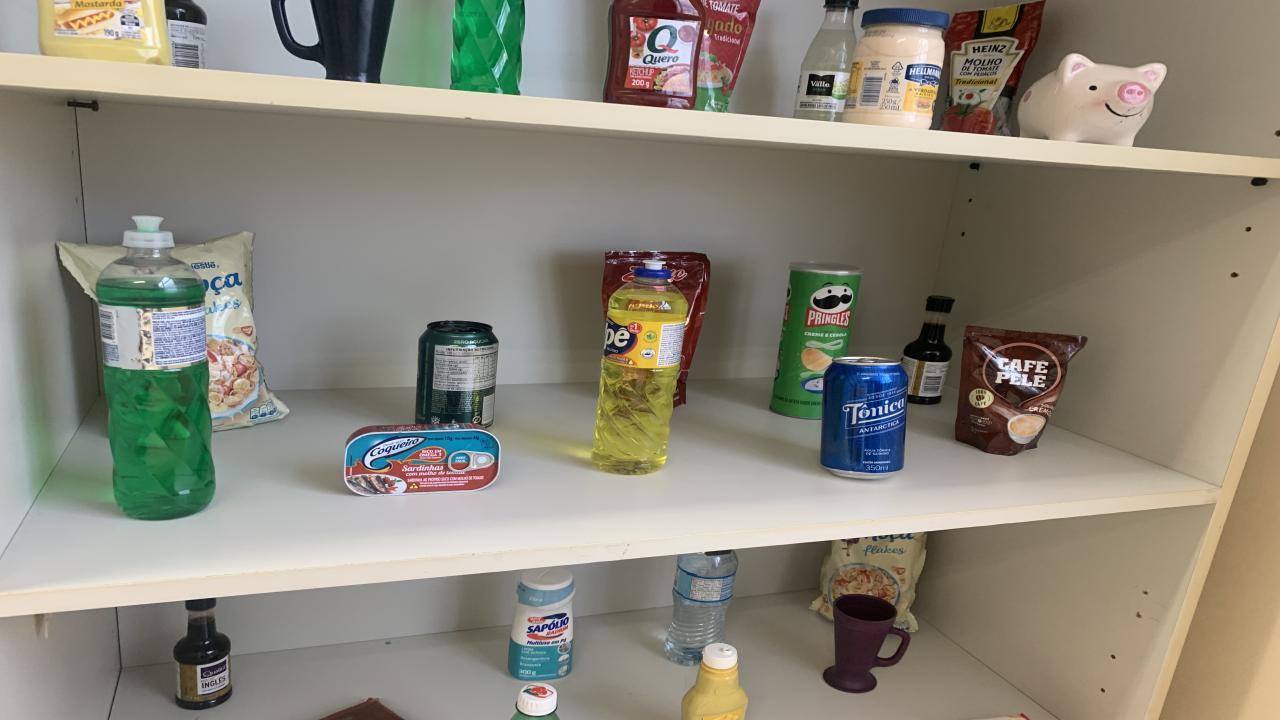Cleaner-Cleanup_Items: (508, 566, 575, 681)
Coffee-Pantry_Items: (955, 326, 1088, 456)
Detergent-Cleanup_Items: (95, 216, 215, 519), (592, 262, 688, 474), (450, 0, 525, 94), (220, 261, 225, 262)
English_Sauce-Pantry_Items: (172, 598, 232, 709), (900, 294, 955, 405), (902, 296, 955, 364), (912, 392, 940, 403)
Flakes-Snacks: (172, 232, 288, 429), (810, 532, 928, 632), (58, 242, 122, 296)
Guarana_Can-Drinks: (415, 321, 498, 428)
Ketchup-Pantry_Items: (602, 0, 705, 109), (602, 0, 705, 109)
Mayonnaise-Pantry_Items: (842, 8, 950, 129), (1018, 30, 1022, 36)
Mustard-Pantry_Items: (38, 0, 172, 66), (682, 643, 748, 720)
Pig_Safe-Miscellaneous: (1018, 52, 1168, 146)
Pringles-Snacks: (770, 262, 862, 418)
Soda-Drinks: (795, 0, 858, 122)
Tomato_Sauce-Pantry_Items: (602, 251, 710, 407), (942, 0, 1045, 135), (695, 0, 760, 112)
Tonic-Drinks: (820, 356, 908, 480)
Tuna_Can-Pantry_Items: (342, 424, 500, 495)
Water_Bottle-Drinks: (665, 549, 738, 666)
